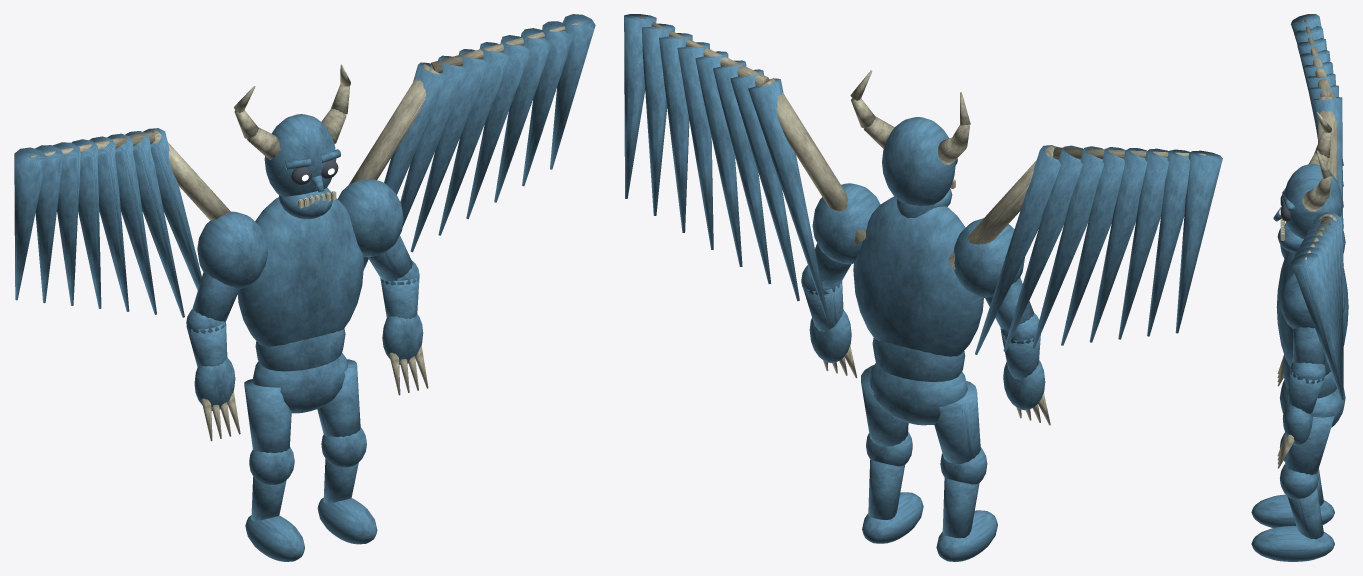
File: enemy_ice_harpy.glb
3 views of the same model, side by side, from view 1: azimuth 30°, elevation 25°; view 2: azimuth 150°, elevation 25°; view 3: azimuth 270°, elevation 25° (orthographic). The views are drawn at different scales.
Visible parts, largest first — view 1: Blue_glacial_ice.007, Blue_glacial_ice.006, Blue_glacial_ice, Blue_glacial_ice.002, Blue_glacial_ice.004, Blue_glacial_ice.001, Blue_glacial_ice.003, Blue_glacial_ice.005, Aged_bone.004, Aged_bone.002, Aged_bone.003, Aged_bone (+1 smaller); view 2: Blue_glacial_ice.006, Blue_glacial_ice.007, Blue_glacial_ice, Blue_glacial_ice.001, Blue_glacial_ice.004, Blue_glacial_ice.002, Blue_glacial_ice.003, Blue_glacial_ice.005, Aged_bone.004, Aged_bone.003, Aged_bone.002; view 3: Blue_glacial_ice.003, Blue_glacial_ice.007, Blue_glacial_ice.004, Blue_glacial_ice.006, Blue_glacial_ice.005, Blue_glacial_ice, Blue_glacial_ice.001, Aged_bone.002, Aged_bone.003, Aged_bone.001, Aged_bone.004, Eye_socket.
Boxes of the visible parts, x1,y1,x2,y2 form: Blue_glacial_ice.007: [363, 14, 595, 269]; Blue_glacial_ice.006: [14, 128, 201, 317]; Blue_glacial_ice: [237, 197, 363, 413]; Blue_glacial_ice.002: [186, 211, 267, 410]; Blue_glacial_ice.004: [338, 179, 423, 364]; Blue_glacial_ice.001: [244, 379, 304, 561]; Blue_glacial_ice.003: [317, 359, 377, 544]; Blue_glacial_ice.005: [264, 114, 340, 219]; Aged_bone.004: [349, 22, 579, 184]; Aged_bone.002: [234, 64, 350, 208]; Aged_bone.003: [29, 130, 230, 220]; Aged_bone: [201, 391, 240, 441]; Blue_glacial_ice.006: [975, 145, 1222, 354]; Blue_glacial_ice.007: [624, 14, 828, 318]; Blue_glacial_ice: [853, 196, 983, 425]; Blue_glacial_ice.001: [934, 381, 997, 561]; Blue_glacial_ice.004: [801, 183, 880, 362]; Blue_glacial_ice.002: [953, 218, 1045, 410]; Blue_glacial_ice.003: [861, 365, 923, 543]; Blue_glacial_ice.005: [882, 117, 955, 217]; Aged_bone.004: [639, 16, 865, 245]; Aged_bone.003: [948, 146, 1206, 269]; Aged_bone.002: [850, 70, 970, 188]; Blue_glacial_ice.003: [1251, 415, 1334, 561]; Blue_glacial_ice.007: [1291, 212, 1343, 400]; Blue_glacial_ice.004: [1280, 273, 1345, 445]; Blue_glacial_ice.006: [1291, 14, 1343, 266]; Blue_glacial_ice.005: [1273, 163, 1342, 252]; Blue_glacial_ice: [1276, 251, 1348, 427]; Blue_glacial_ice.001: [1251, 432, 1334, 527]; Aged_bone.002: [1280, 112, 1331, 240]; Aged_bone.003: [1303, 19, 1337, 180]; Aged_bone.001: [1277, 433, 1294, 468]; Aged_bone.004: [1303, 214, 1336, 260]; Eye_socket: [1280, 194, 1290, 221].
Size of the model in its own units: 3.77 by 2.87 by 0.6129.
4 materials, 2 textured.
